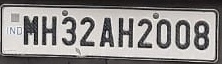character: (117, 16, 134, 48), (22, 14, 39, 45), (79, 16, 95, 46), (99, 16, 114, 48), (137, 18, 153, 48), (174, 19, 190, 49), (193, 20, 209, 50), (41, 16, 56, 46), (61, 16, 76, 46), (156, 18, 171, 48)
